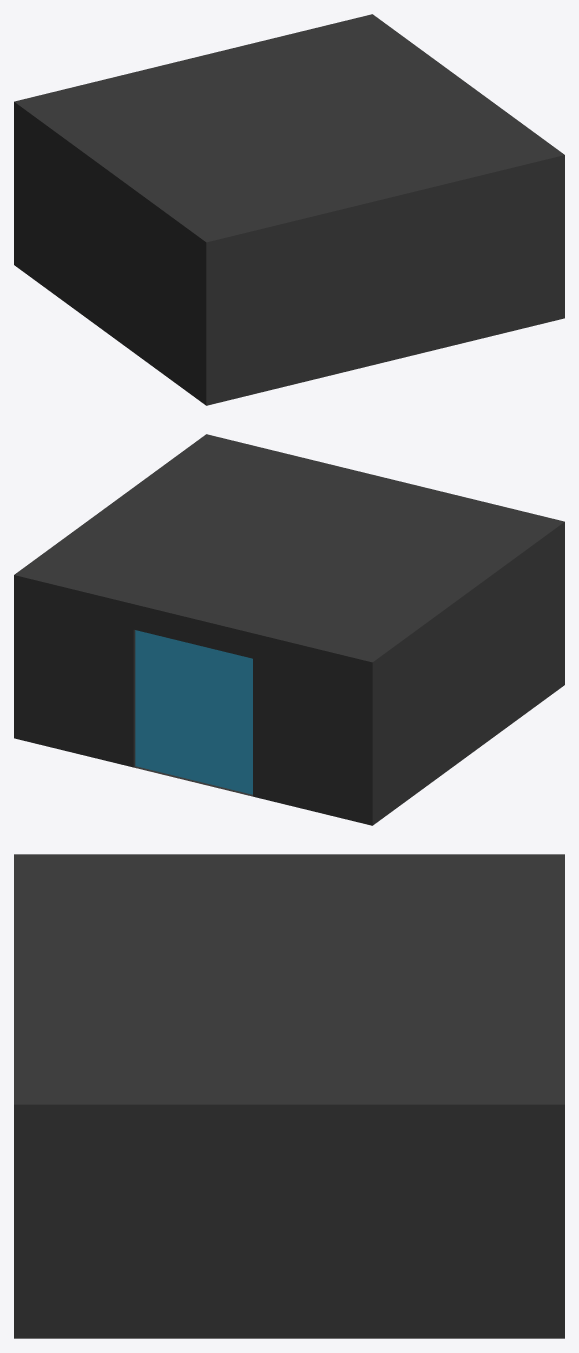
Rendered from LowBuilding.fbx.
The picture shows the model from 3 angles, top to bottom: view 1: azimuth 30°, elevation 25°; view 2: azimuth 150°, elevation 25°; view 3: azimuth 270°, elevation 25°; orthographic projection. The views are drawn at different scales.
Parts seen in each view (by area): view 1: LowBlock; view 2: LowBlock; view 3: LowBlock.
Part boxes in pixels (<box>): LowBlock: <box>14,14,564,405</box>; LowBlock: <box>14,434,564,825</box>; LowBlock: <box>14,854,564,1338</box>.
Size of the model in its own units: 972 by 423 by 903.
